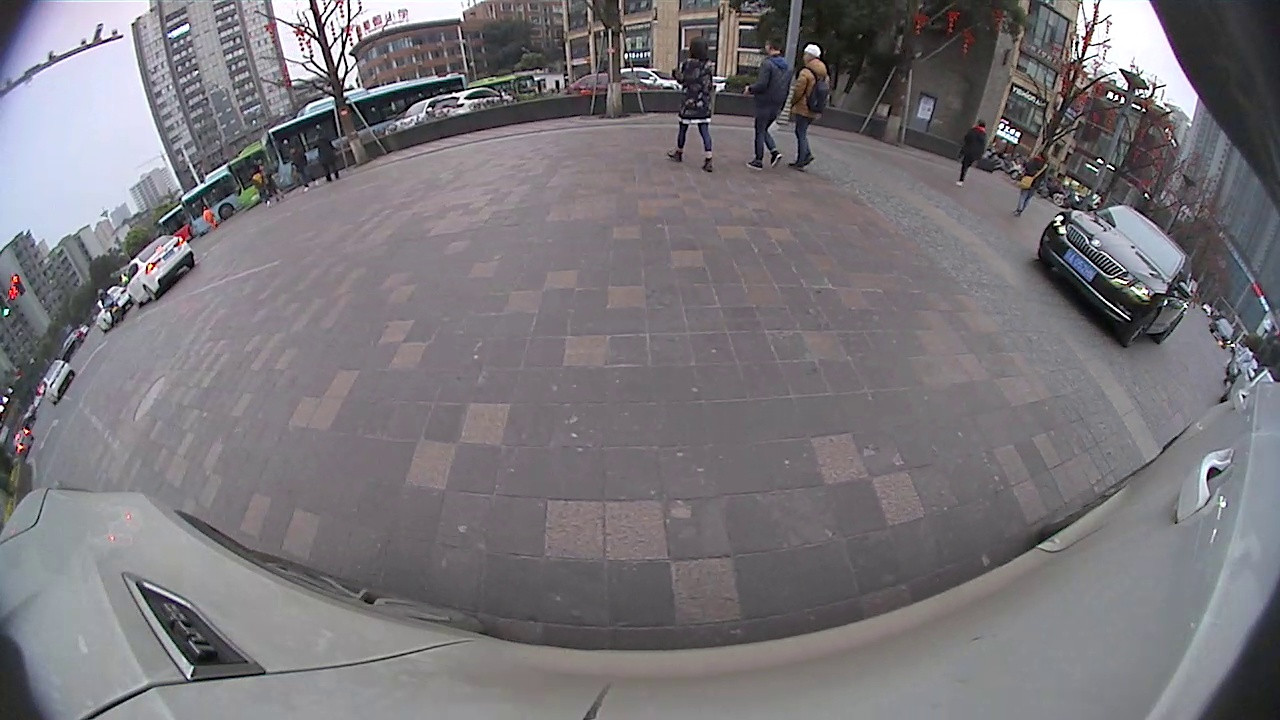bus: (261, 72, 466, 193)
car: (1037, 202, 1195, 347), (124, 233, 196, 310), (39, 357, 76, 406)
front: (1120, 304, 1163, 351)
person: (682, 36, 715, 173), (758, 34, 790, 173), (800, 43, 829, 171), (1024, 150, 1049, 217), (966, 121, 986, 189)
